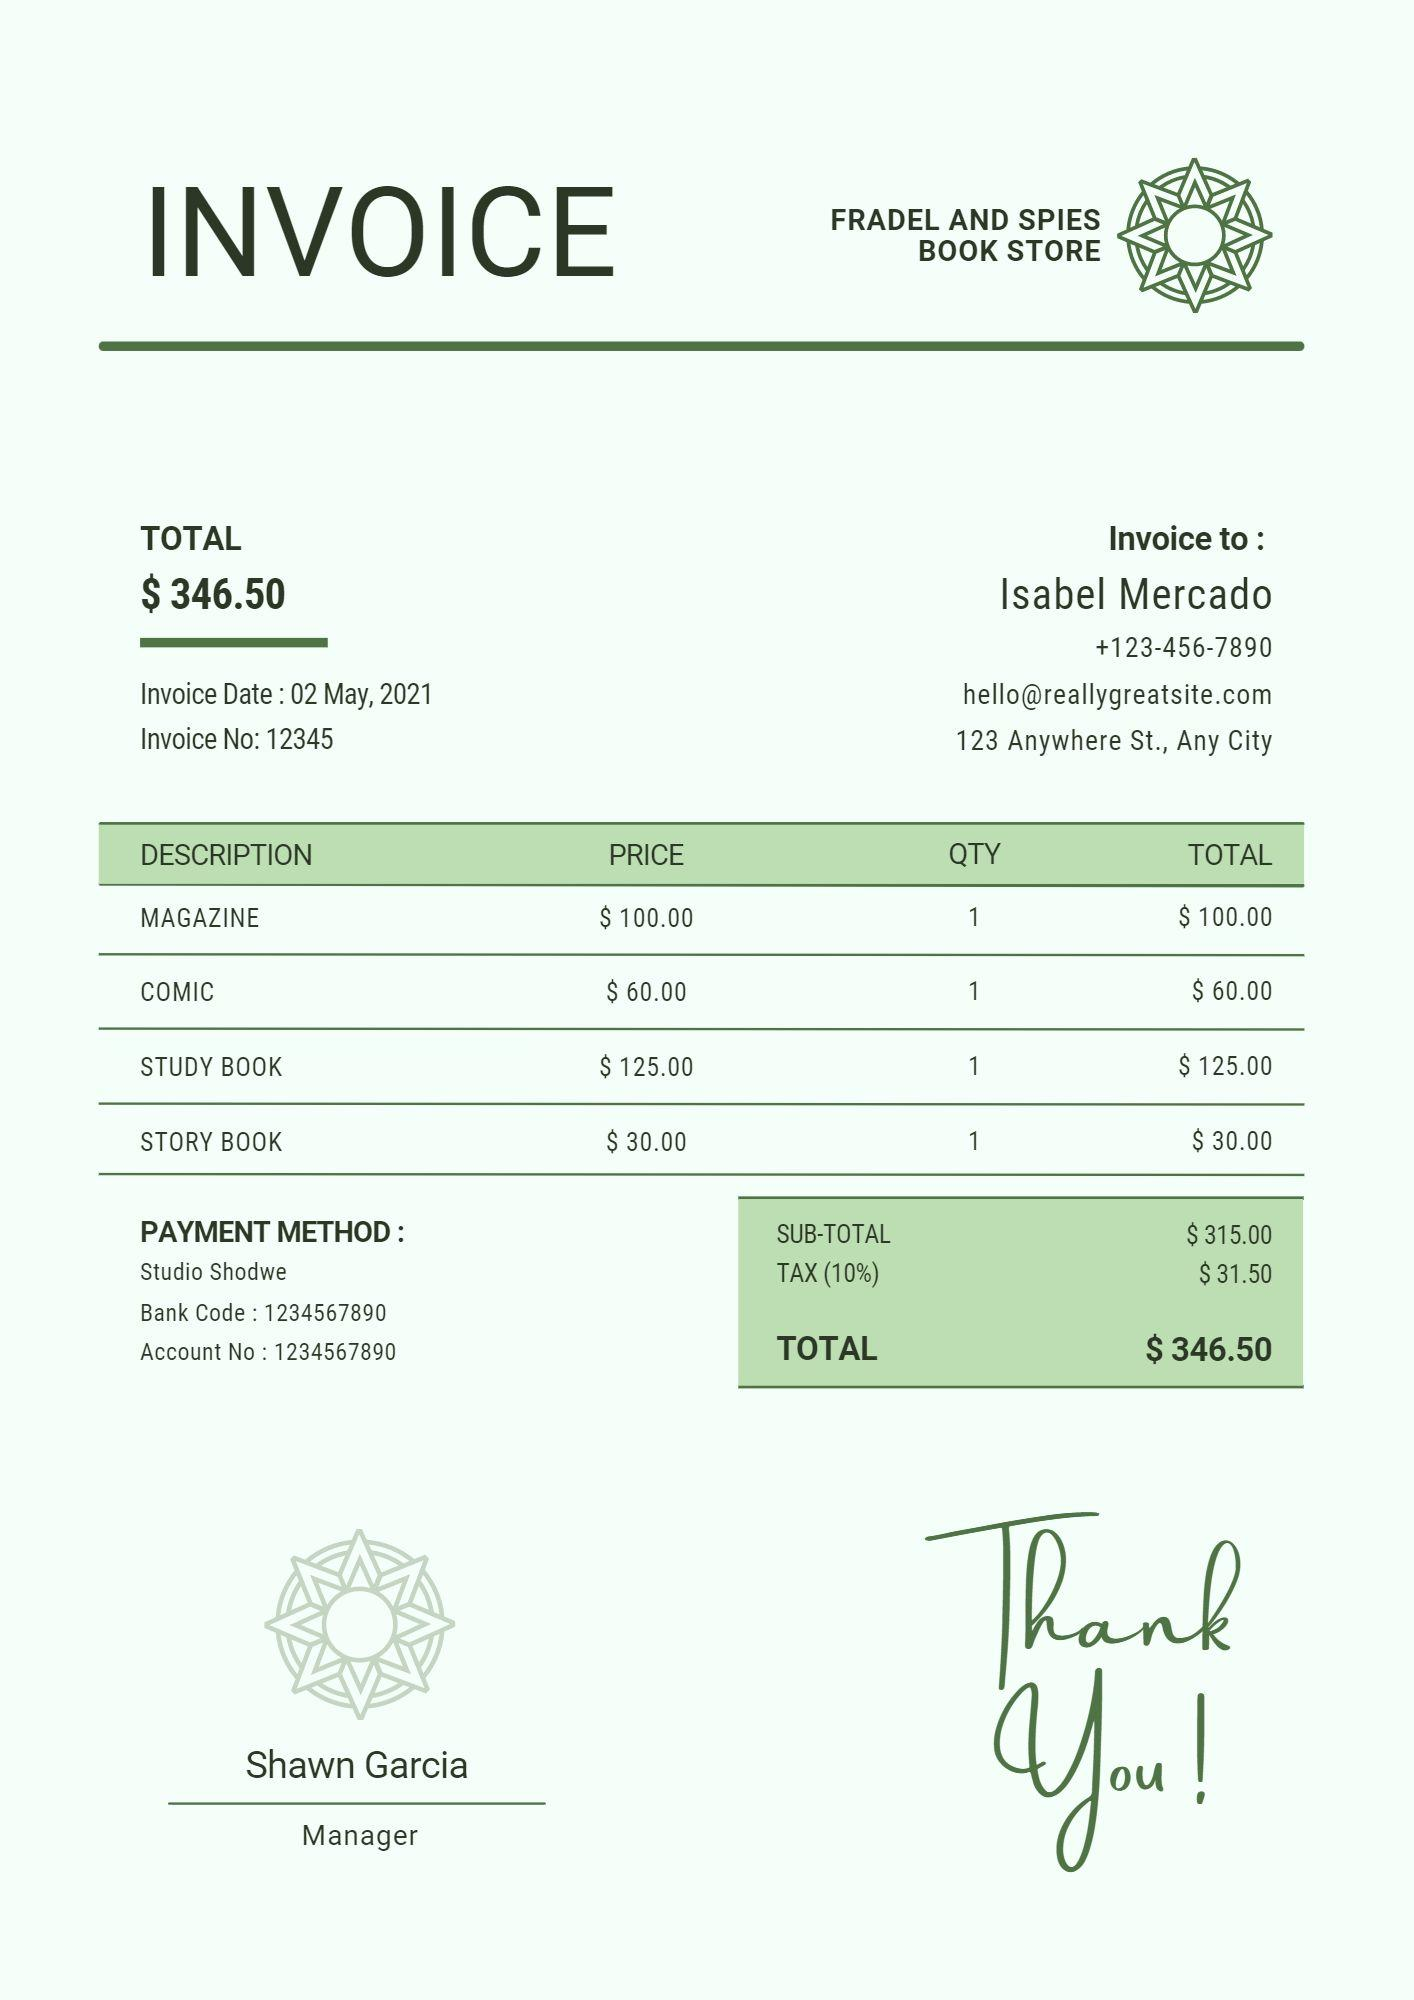ROI: (98, 815, 1304, 1180)
